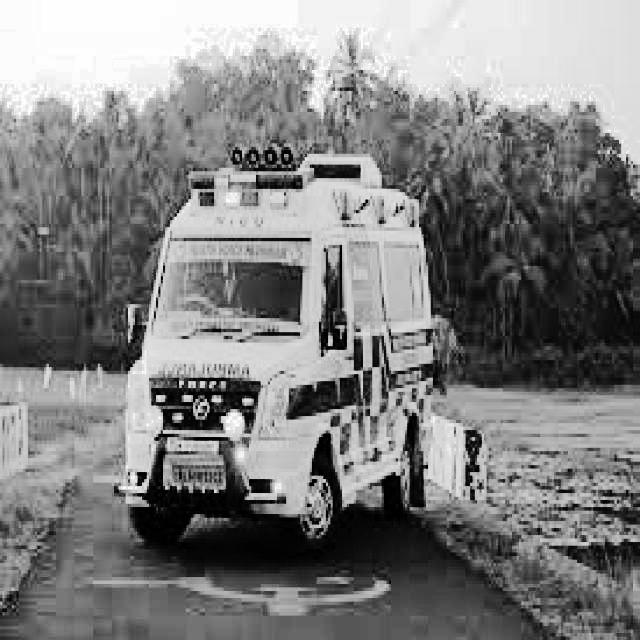LCV: (120, 168, 349, 516)
